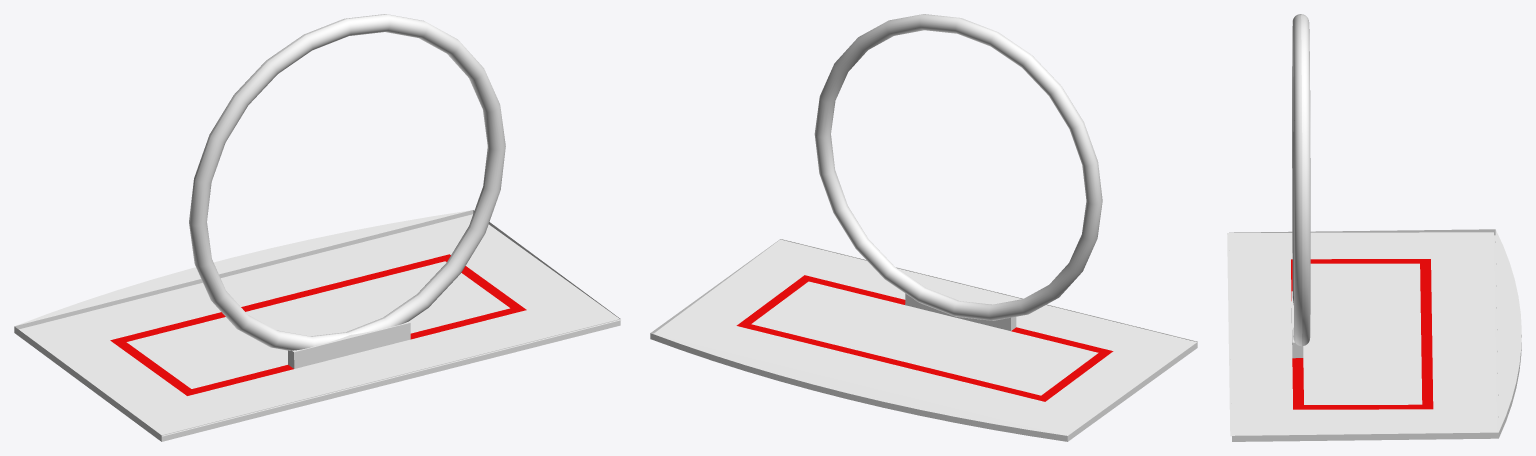
3 renders of one model, left to right at view 1: azimuth 30°, elevation 25°; view 2: azimuth 150°, elevation 25°; view 3: azimuth 270°, elevation 25°, orthographic. The views are drawn at different scales.
Parts seen in each view (by area): view 1: SketchUp.003, SketchUp.004, SketchUp.001, SketchUp.002, SketchUp.005; view 2: SketchUp.003, SketchUp.004, SketchUp.001, SketchUp.002, SketchUp.005; view 3: SketchUp.003, SketchUp.004, SketchUp.002, SketchUp.001, SketchUp.005.
Part boxes in pixels (x1=…): SketchUp.003: x1=19, y1=214, x2=621, y2=436; SketchUp.004: x1=126, y1=261, x2=509, y2=388; SketchUp.001: x1=189, y1=14, x2=505, y2=350; SketchUp.002: x1=14, y1=210, x2=620, y2=441; SketchUp.005: x1=110, y1=254, x2=526, y2=395; SketchUp.003: x1=653, y1=239, x2=1197, y2=435; SketchUp.004: x1=751, y1=281, x2=1098, y2=395; SketchUp.001: x1=814, y1=14, x2=1102, y2=320; SketchUp.002: x1=650, y1=239, x2=1197, y2=441; SketchUp.005: x1=736, y1=275, x2=1113, y2=401; SketchUp.003: x1=1227, y1=232, x2=1496, y2=436; SketchUp.004: x1=1291, y1=263, x2=1422, y2=404; SketchUp.002: x1=1229, y1=229, x2=1521, y2=441; SketchUp.001: x1=1292, y1=14, x2=1310, y2=346; SketchUp.005: x1=1291, y1=259, x2=1433, y2=409.
Bounding box in the file's own units: 7240 × 5073 × 4365.
